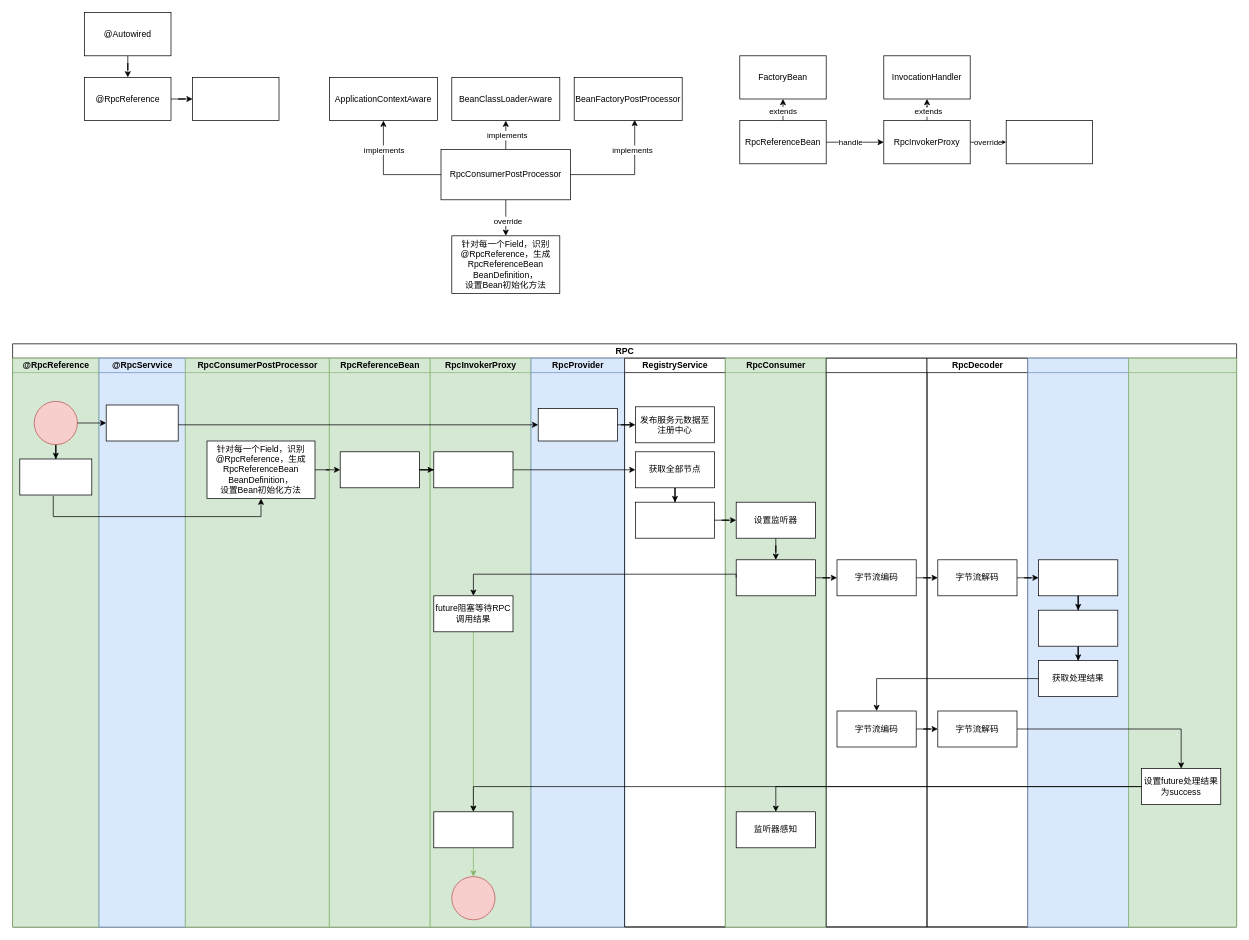
The diagram is 1249 pixels wide and 940 high, and some of its shapes have lost their labels. Each missing label, with the box of its shape:
end: (451, 876, 495, 920)
RestController: (192, 77, 279, 121)
RpcEncoder: (825, 357, 927, 927)
RpcRequestHandler: (1027, 357, 1129, 927)
RpcResponseHandler: (1128, 357, 1237, 927)
start: (33, 401, 77, 445)
反射处理请求: (1038, 609, 1118, 646)
发送请求: (735, 559, 815, 596)
填充bean属性: (339, 451, 419, 488)
构造RPC请求: (1005, 120, 1093, 164)
标识每个facade: (19, 458, 92, 495)
标识每个facadeimpl: (105, 404, 178, 441)
根据serviceKey,获取service元数据: (1038, 559, 1118, 596)
生成对应service代理类，构造RPC请求: (433, 451, 513, 488)
生成服务元数据: (537, 408, 617, 441)
获取结果: (433, 811, 513, 848)
负载均衡选择节点返回: (635, 501, 715, 538)
